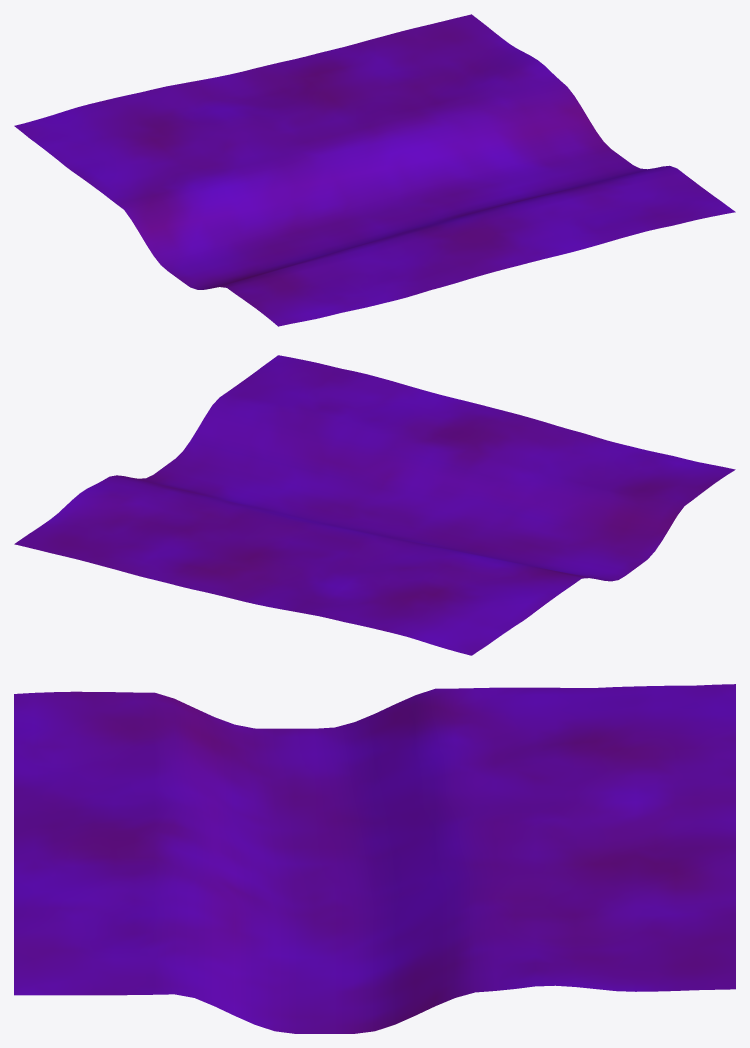
Rendered from ground_31.glb.
3 renders of one model, top to bottom at view 1: azimuth 30°, elevation 25°; view 2: azimuth 150°, elevation 25°; view 3: azimuth 270°, elevation 25°, orthographic. The views are drawn at different scales.
Visible parts, largest first — view 1: Ground_31; view 2: Ground_31; view 3: Ground_31.
Boxes of the visible parts, x1=… form: Ground_31: x1=14, y1=14, x2=735, y2=326; Ground_31: x1=14, y1=355, x2=735, y2=655; Ground_31: x1=14, y1=684, x2=735, y2=1033.
Size of what is drawn, in the model's own units: 36 by 2.72 by 36.
